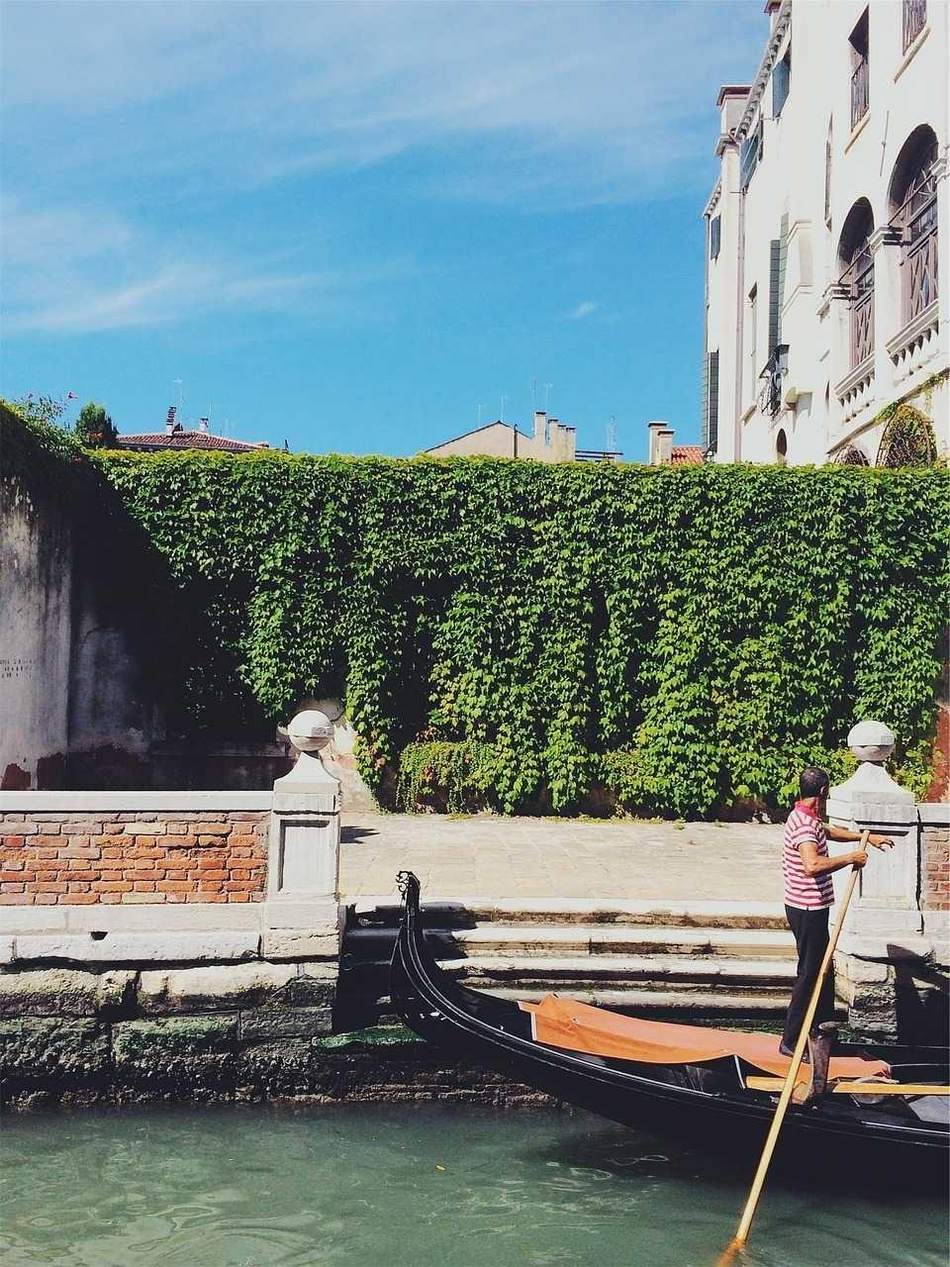kayak: (345, 873, 949, 1193)
